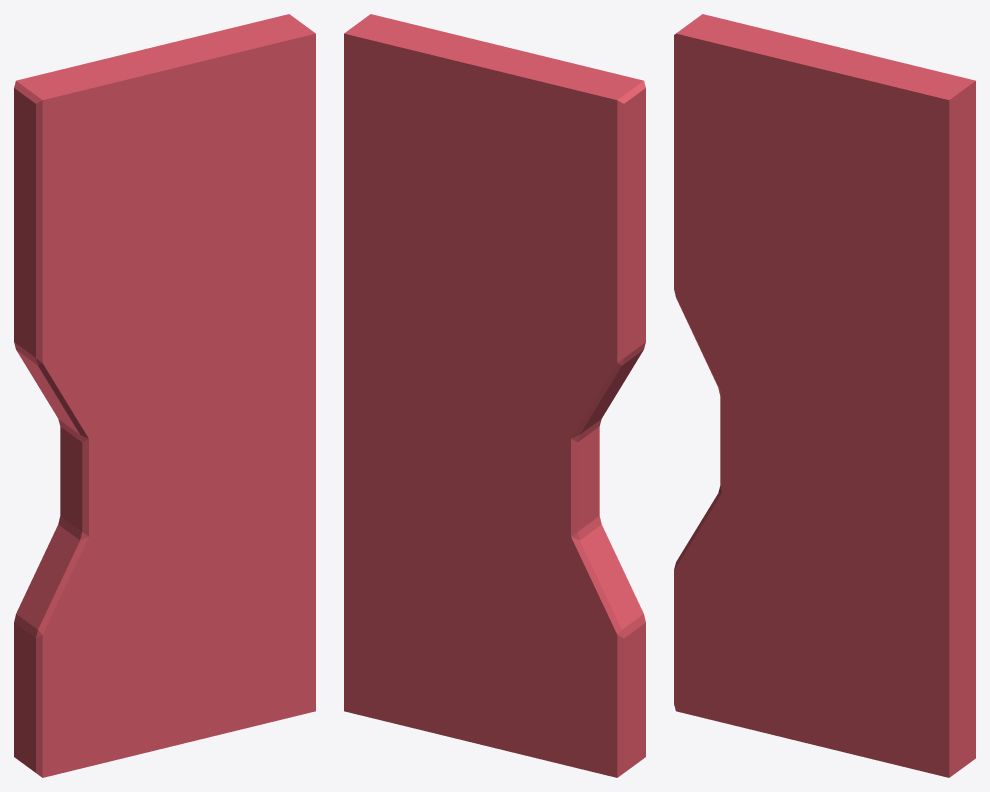
The model's file is door-metal-right.fbx.
3 views of the same model, side by side, from view 1: azimuth 30°, elevation 25°; view 2: azimuth 150°, elevation 25°; view 3: azimuth 330°, elevation 25° (orthographic).
Parts seen in each view (by area): view 1: door-metal-right; view 2: door-metal-right; view 3: door-metal-right.
Boxes of the visible parts, x1,y1,x2,y2 form: door-metal-right: (14, 14, 315, 777); door-metal-right: (344, 14, 645, 777); door-metal-right: (674, 14, 975, 777).
Size of the model in its own units: 1.2 by 2.8 by 0.2.
